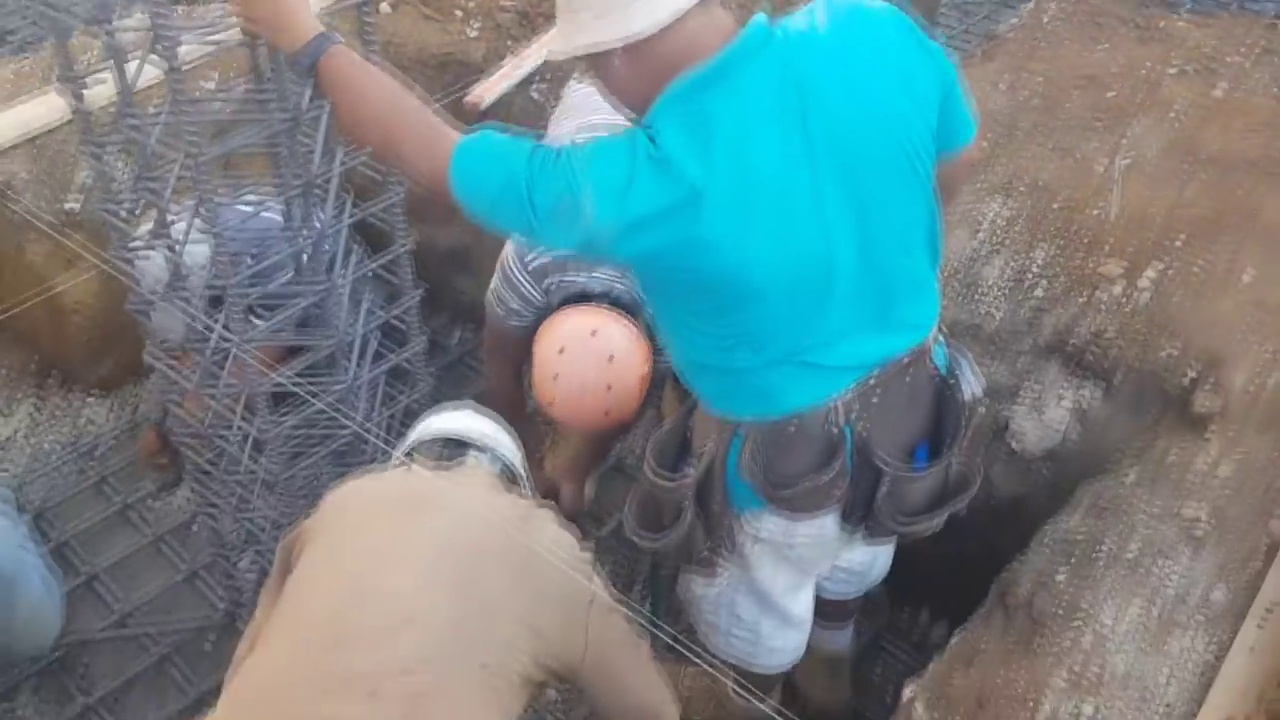helmet: (526, 306, 651, 437), (390, 411, 533, 500)
helmet-off: (535, 3, 761, 122)
helmet-on: (524, 279, 674, 442)
person: (232, 0, 990, 673), (211, 398, 703, 720), (474, 62, 711, 497), (115, 184, 405, 480)
